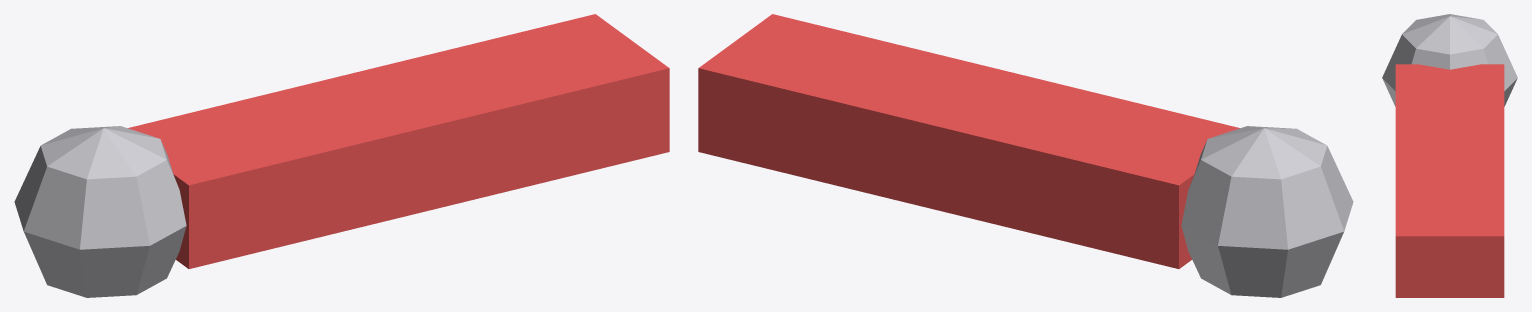
Rendered from Nucleotide_A.fbx.
3 views of the same model, side by side, from view 1: azimuth 30°, elevation 25°; view 2: azimuth 150°, elevation 25°; view 3: azimuth 270°, elevation 25° (orthographic). The views are drawn at different scales.
Visible parts, largest first — view 1: Nucleotide_A; view 2: Nucleotide_A; view 3: Nucleotide_A.
Boxes of the visible parts, x1=… form: Nucleotide_A: x1=14, y1=14, x2=669, y2=297; Nucleotide_A: x1=698, y1=14, x2=1353, y2=297; Nucleotide_A: x1=1382, y1=14, x2=1517, y2=297.
Bounding box in the file's own units: 0.038 × 0.01 × 0.01.
